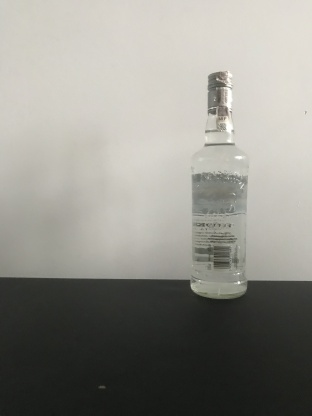nakretka: (206, 69, 234, 114)
